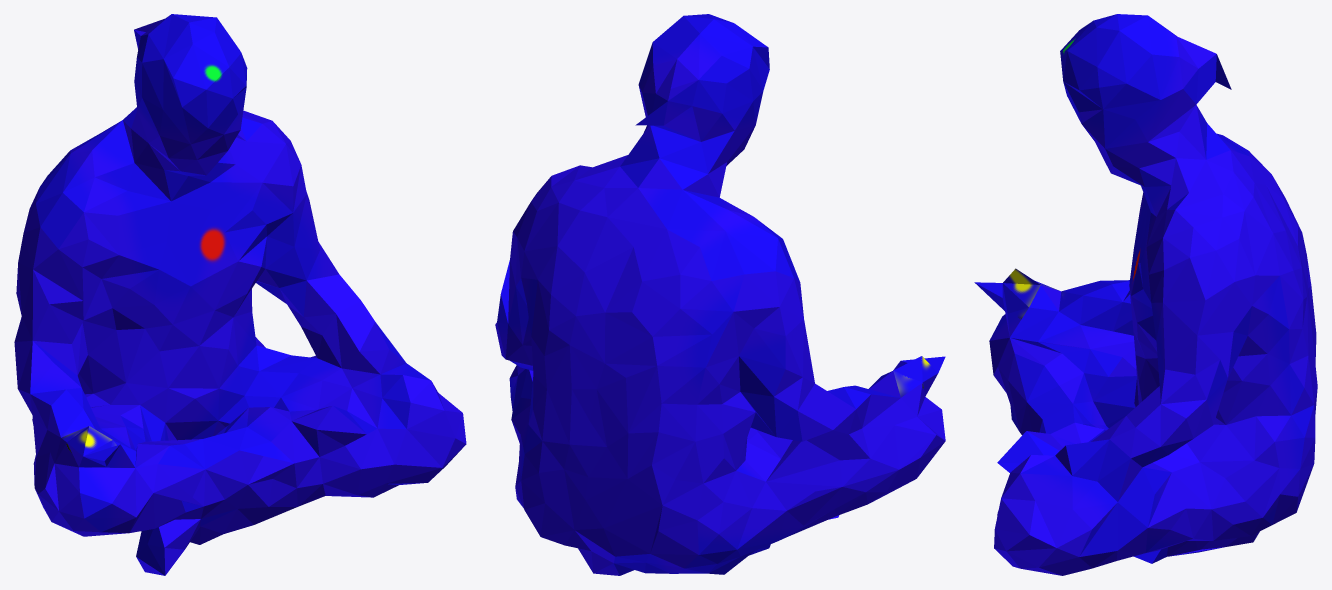
File: childsitting.dae
3 views of the same model, side by side, from view 1: azimuth 30°, elevation 25°; view 2: azimuth 150°, elevation 25°; view 3: azimuth 270°, elevation 25° (orthographic). The views are drawn at different scales.
Visible parts, largest first — view 1: child; view 2: child; view 3: child.
Part boxes in pixels (x1,y1,x2,y2): child: [14, 14, 466, 575]; child: [495, 14, 945, 575]; child: [974, 14, 1317, 575].
Bounding box in the file's own units: 0.4947 × 0.5936 × 0.3611.
Materials: 1 (1 with a texture image).
